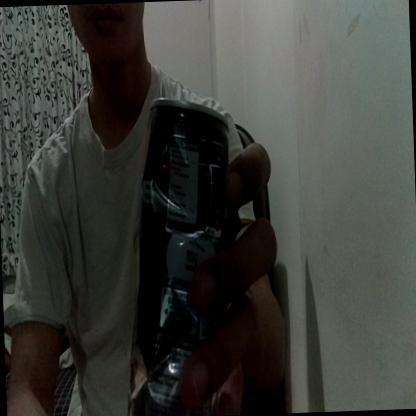alumunium_can: (114, 95, 240, 416)
